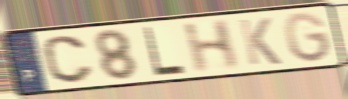8: (93, 26, 139, 83)
C: (40, 34, 96, 86)
G: (282, 10, 334, 65)
H: (181, 17, 241, 75)
K: (237, 16, 284, 67)
L: (142, 24, 188, 77)
